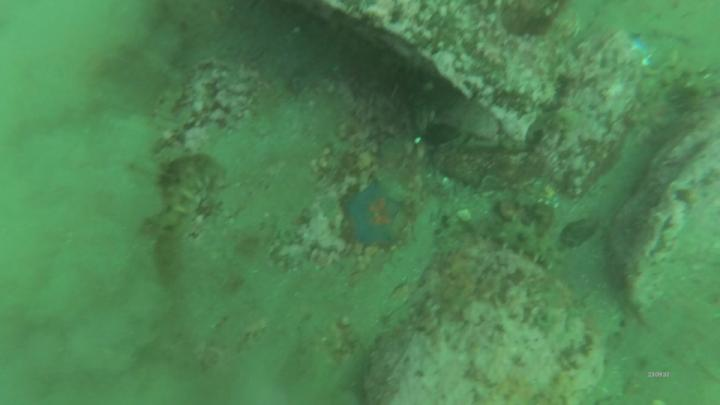holothurian: (148, 151, 229, 225), (489, 217, 565, 275), (637, 55, 710, 106)
starfish: (340, 179, 406, 248)
